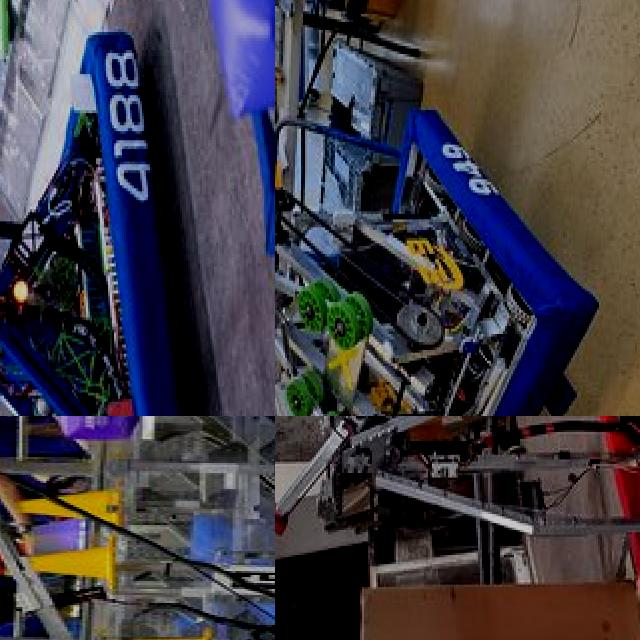FRC-Robots: (275, 22, 591, 416), (0, 0, 194, 416), (275, 416, 640, 630), (0, 439, 275, 640)
